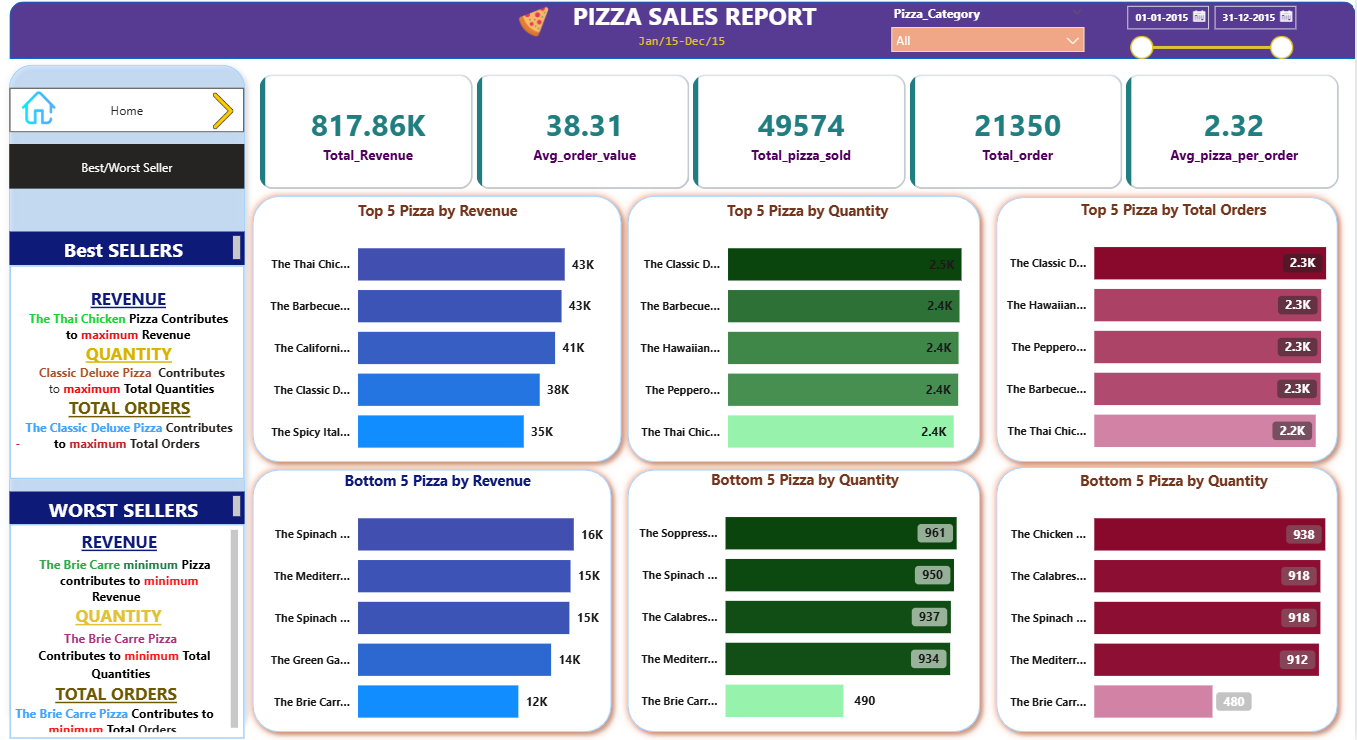

This screenshot's page, from the dashboard's own definition file:
{"tool":"powerbi","page":{"name":"Best/Worst Seller","canvas":[1500,820],"ordinal":1},"visuals":[{"type":"cardVisual","fields":{"Data":["Measure_table.Total_Revenue","Measure_table.Avg_order_value","Measure_table.Total_pizza_sold","Measure_table.Total_order","Measure_table.Avg_pizza_per_order"]},"box":[277.5,71.4,1222.9,160.8],"z":0},{"type":"shape","box":[9.6,68.7,277.5,751.6],"z":1000},{"type":"shape","box":[19.2,8.2,1481.2,63.2],"z":2000},{"type":"textbox","box":[613.8,0,316.2,47.5],"z":3000},{"type":"textbox","box":[701.2,37.5,115,30],"z":4000},{"type":"image","box":[567.5,13.8,56.2,33.8],"z":5000},{"type":"shape","box":[1095.1,214.3,393,309.2],"z":10000},{"type":"shape","box":[689.7,213,405.3,310.5],"z":11000},{"type":"shape","box":[277.5,213,423.2,310.5],"z":12000},{"type":"textbox","box":[19.2,261.1,258.3,37.1],"z":16000},{"type":"textbox","box":[19.2,298.2,258.3,235],"z":17000},{"type":"textbox","box":[19.2,546.9,258.3,35.7],"z":18000},{"type":"textbox","box":[19.2,582.6,258.3,236.3],"z":19000},{"type":"slicer","fields":{"Values":["pizza_sales (1).pizza_category"]},"box":[978.3,6.9,232.2,59.1],"z":20000},{"type":"slicer","fields":{"Values":["pizza_sales (1).order_date"]},"box":[1235.2,2.7,203.4,89.3],"z":21000},{"type":"shape","box":[1095.1,511.1,393,309.2],"z":21001},{"type":"shape","box":[689.7,513.9,405.3,306.4],"z":21002},{"type":"shape","box":[277.5,513.9,412.2,306.4],"z":21003},{"type":"barChart","title":"Top 5 Pizza by Revenue ","fields":{"Category":["pizza_sales (1).pizza_name"],"Y":["Measure_table.Total_Revenue"]},"box":[288.5,226.7,402.6,296.8],"z":21004},{"type":"barChart","title":"Bottom 5 Pizza by Revenue ","fields":{"Category":["pizza_sales (1).pizza_name"],"Y":["Measure_table.Total_Revenue"]},"box":[288.5,523.5,402.6,296.8],"z":21005},{"type":"barChart","title":"Top 5 Pizza by Quantity","fields":{"Category":["pizza_sales (1).pizza_name"],"Y":["Measure_table.Total_pizza_sold"]},"box":[695.2,226.7,402.6,296.8],"z":21006},{"type":"barChart","title":"Bottom 5 Pizza by Quantity","fields":{"Category":["pizza_sales (1).pizza_name"],"Y":["Measure_table.Total_pizza_sold"]},"box":[693.1,522.6,402,297.5],"z":21007},{"type":"barChart","title":"Top 5 Pizza by Total Orders","fields":{"Category":["pizza_sales (1).pizza_name"],"Y":["Measure_table.Total_order"]},"box":[1098.3,225.1,402,297.5],"z":21008},{"type":"barChart","title":"Bottom 5 Pizza by Quantity","fields":{"Category":["pizza_sales (1).pizza_name"],"Y":["Measure_table.Total_order"]},"box":[1097.8,523.5,402.6,296.8],"z":21009},{"type":"pageNavigator","box":[19.2,103.1,258.3,49.5],"z":21010},{"type":"pageNavigator","box":[19.2,164.9,258.3,49.5],"z":21011},{"type":"image","box":[230.8,108.5,46.7,39.8],"z":21012},{"type":"image","box":[33,103.1,37.1,44],"z":21013}]}

Visuals, with their boxes in screenshot pixels (x1, y1, x2, y2), scaled from the page's 1500x820 canvas onto the 1357x740 screenshot:
cardVisual - Measure_table.Total_Revenue x Measure_table.Avg_order_value: <region>251, 64, 1356, 210</region>
shape: <region>9, 62, 260, 739</region>
shape: <region>17, 7, 1356, 64</region>
textbox: <region>555, 0, 841, 43</region>
textbox: <region>634, 34, 738, 61</region>
image: <region>513, 12, 564, 43</region>
shape: <region>991, 193, 1346, 472</region>
shape: <region>624, 192, 991, 472</region>
shape: <region>251, 192, 634, 472</region>
textbox: <region>17, 236, 251, 269</region>
textbox: <region>17, 269, 251, 481</region>
textbox: <region>17, 494, 251, 526</region>
textbox: <region>17, 526, 251, 739</region>
slicer - pizza_sales (1).pizza_category: <region>885, 6, 1095, 60</region>
slicer - pizza_sales (1).order_date: <region>1117, 2, 1301, 83</region>
shape: <region>991, 461, 1346, 739</region>
shape: <region>624, 464, 991, 739</region>
shape: <region>251, 464, 624, 739</region>
"Top 5 Pizza by Revenue " barChart: <region>261, 205, 625, 472</region>
"Bottom 5 Pizza by Revenue " barChart: <region>261, 472, 625, 739</region>
"Top 5 Pizza by Quantity" barChart: <region>629, 205, 993, 472</region>
"Bottom 5 Pizza by Quantity" barChart: <region>627, 472, 991, 739</region>
"Top 5 Pizza by Total Orders" barChart: <region>994, 203, 1356, 472</region>
"Bottom 5 Pizza by Quantity" barChart: <region>993, 472, 1356, 739</region>
pageNavigator: <region>17, 93, 251, 138</region>
pageNavigator: <region>17, 149, 251, 193</region>
image: <region>209, 98, 251, 134</region>
image: <region>30, 93, 63, 133</region>
